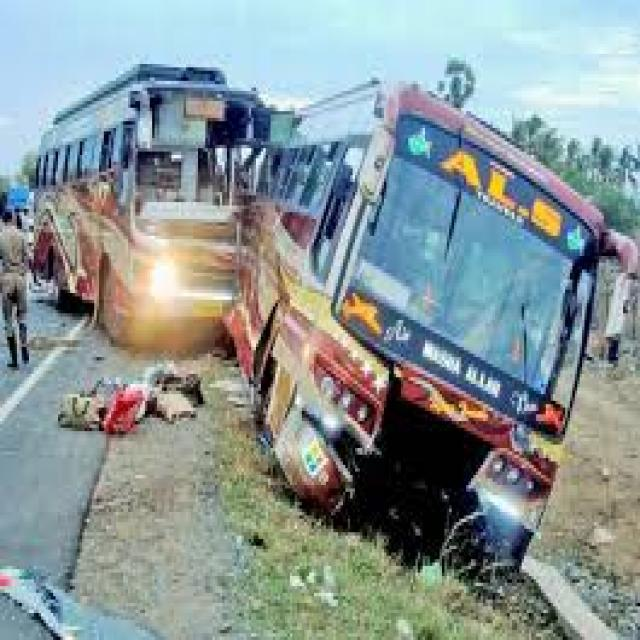accident: (48, 36, 640, 583)
